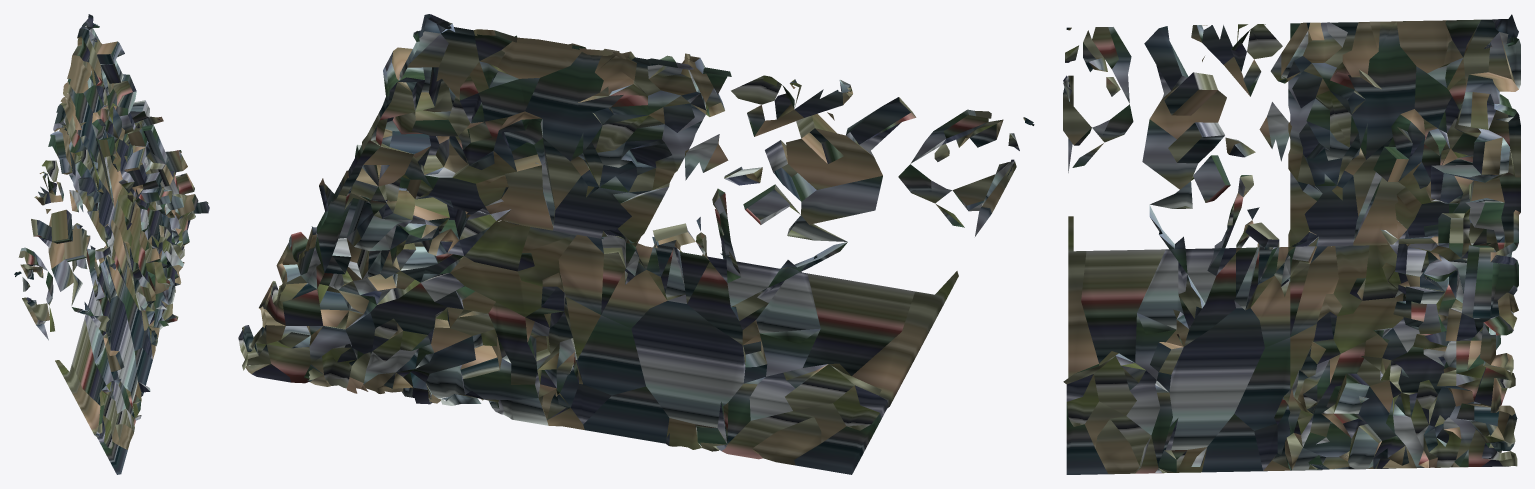
3 renders of one model, left to right at view 1: azimuth 30°, elevation 25°; view 2: azimuth 150°, elevation 25°; view 3: azimuth 270°, elevation 25°, orthographic. The views are drawn at different scales.
Parts seen in each view (by area): view 1: node_3043627270436173_mesh0; view 2: node_3043627270436173_mesh0; view 3: node_3043627270436173_mesh0.
Part boxes in pixels (x1=…): node_3043627270436173_mesh0: x1=14, y1=14, x2=209, y2=474; node_3043627270436173_mesh0: x1=238, y1=14, x2=1034, y2=474; node_3043627270436173_mesh0: x1=1063, y1=14, x2=1520, y2=474.
Size of the model in its own units: 595 by 588 by 447.
1 material, 1 textured.
